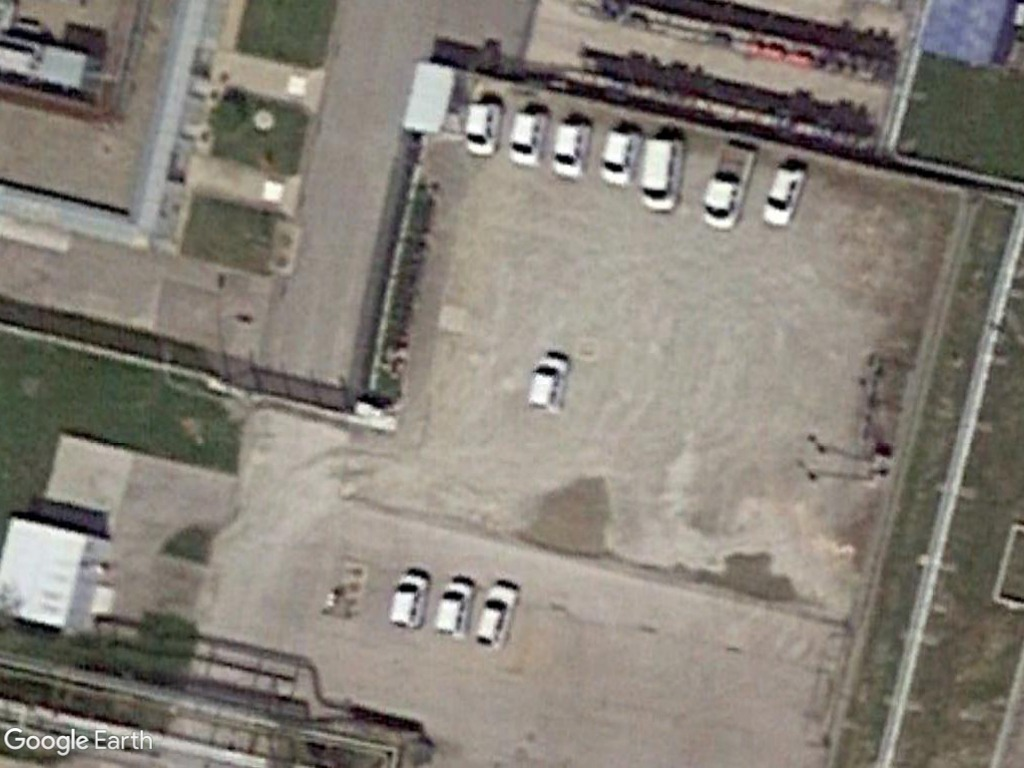car: (471, 578, 519, 654), (760, 158, 809, 229), (526, 350, 571, 418), (388, 566, 433, 634), (546, 116, 594, 179), (461, 97, 508, 158), (506, 105, 551, 168), (599, 126, 641, 190), (433, 577, 474, 641)
others: (698, 141, 761, 232)
van: (635, 132, 690, 219)
